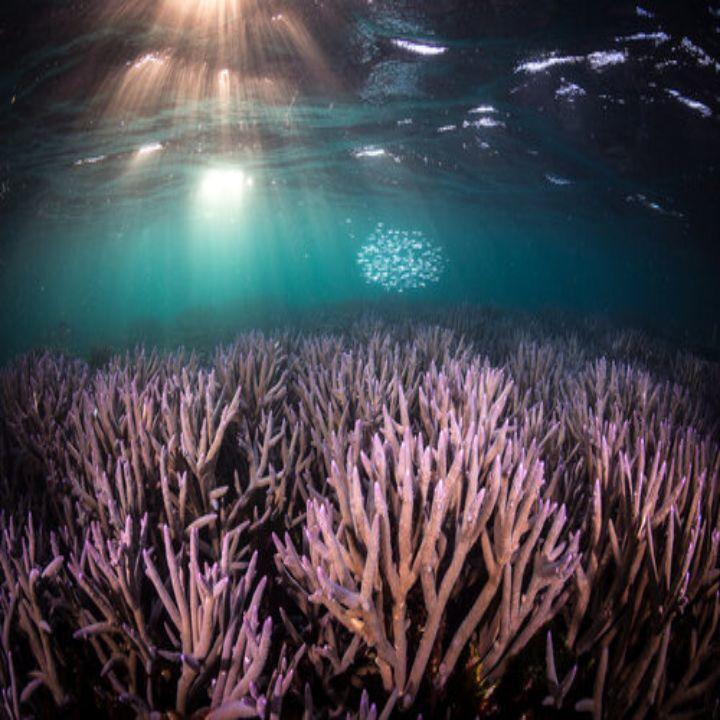Dead Coral: (16, 356, 698, 703)
